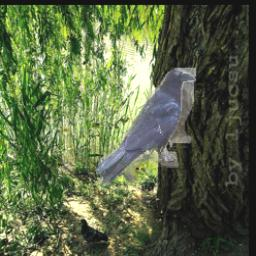Crow: (97, 68, 197, 187)
